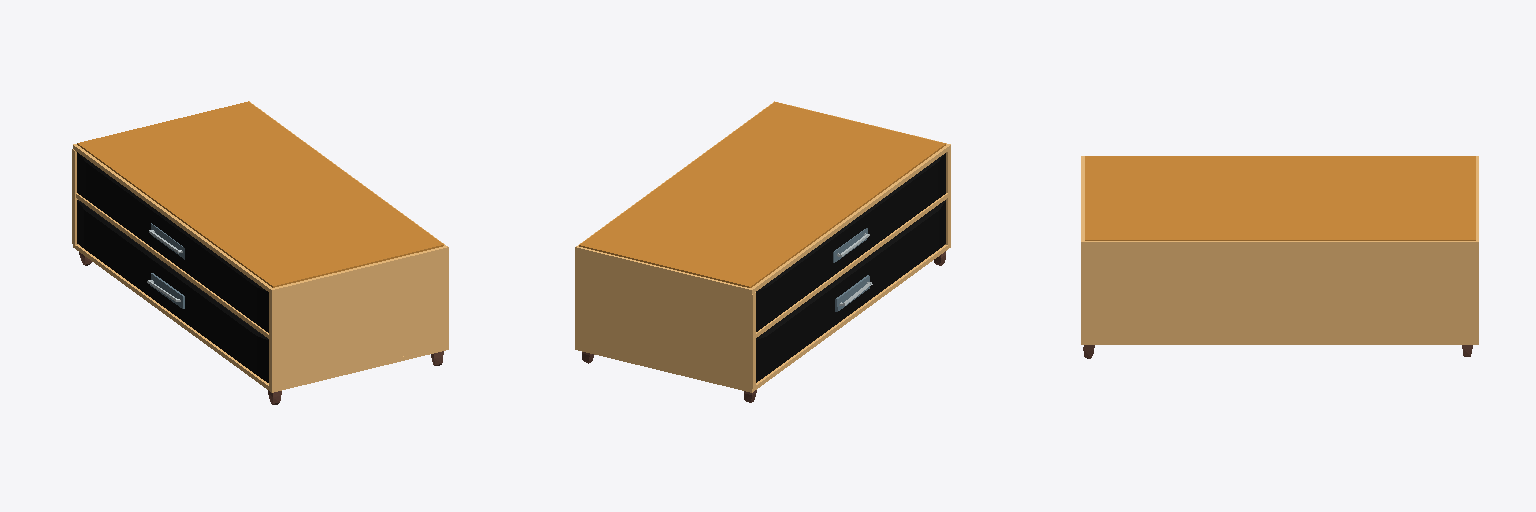
Rendered from TV_Table.obj.
3 views of the same model, side by side, from view 1: azimuth 30°, elevation 25°; view 2: azimuth 150°, elevation 25°; view 3: azimuth 270°, elevation 25° (orthographic).
Parts seen in each view (by area): view 1: group[number redacted], group[number redacted], group[number redacted], group[number redacted], group[number redacted], group[number redacted], group[number redacted], group[number redacted]; view 2: group[number redacted], group[number redacted], group[number redacted], group[number redacted], group[number redacted], group[number redacted], group[number redacted], group[number redacted]; view 3: group[number redacted], group[number redacted], group[number redacted].
Boxes of the visible parts, x1=… form: group[number redacted]: x1=77, y1=101, x2=443, y2=287; group[number redacted]: x1=269, y1=253, x2=443, y2=388; group[number redacted]: x1=77, y1=200, x2=268, y2=382; group[number redacted]: x1=77, y1=152, x2=268, y2=332; group[number redacted]: x1=73, y1=144, x2=443, y2=294; group[number redacted]: x1=73, y1=244, x2=444, y2=392; group[number redacted]: x1=76, y1=193, x2=443, y2=340; group[number redacted]: x1=249, y1=101, x2=448, y2=350; group[number redacted]: x1=579, y1=102, x2=945, y2=287; group[number redacted]: x1=580, y1=253, x2=755, y2=388; group[number redacted]: x1=756, y1=200, x2=945, y2=382; group[number redacted]: x1=756, y1=153, x2=945, y2=331; group[number redacted]: x1=579, y1=103, x2=950, y2=294; group[number redacted]: x1=580, y1=243, x2=950, y2=392; group[number redacted]: x1=578, y1=193, x2=947, y2=340; group[number redacted]: x1=575, y1=101, x2=778, y2=350; group[number redacted]: x1=1081, y1=240, x2=1478, y2=344; group[number redacted]: x1=1085, y1=156, x2=1475, y2=240; group[number redacted]: x1=1081, y1=156, x2=1478, y2=239.
Bounding box in the file's own units: 3.58 × 2.23 × 6.65.